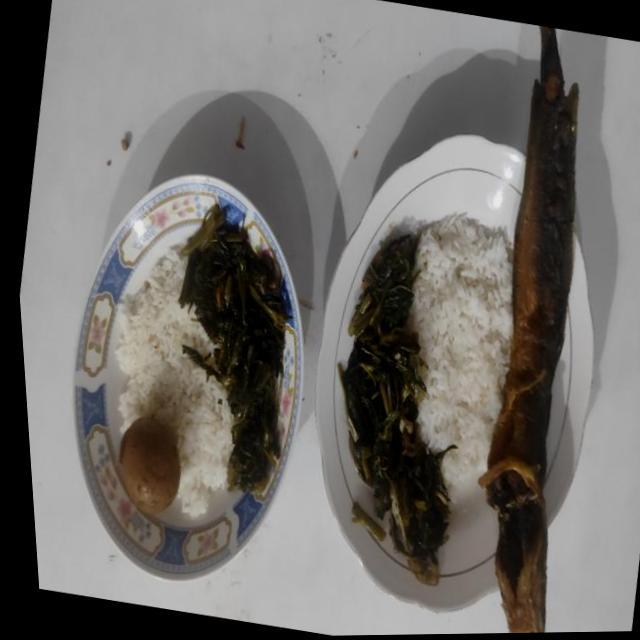nasi_putih: (114, 247, 232, 514), (407, 214, 512, 490)
tumis_kangkung: (338, 234, 456, 584), (178, 204, 292, 490)
